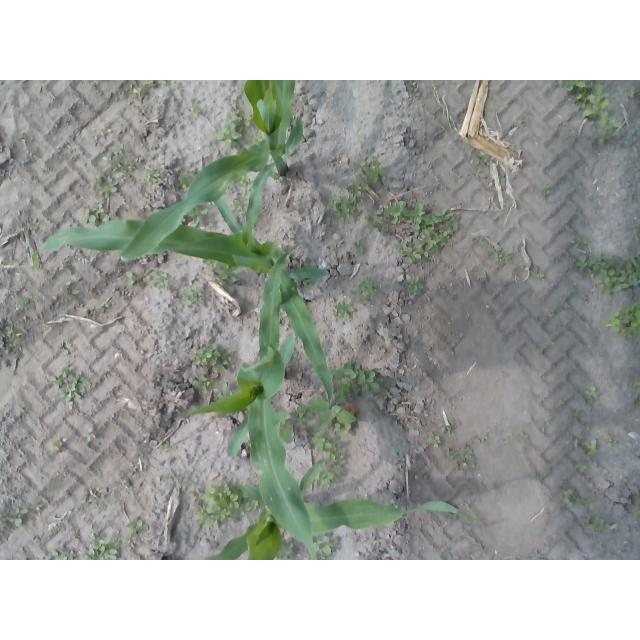Maize: (32, 196, 333, 409), (178, 241, 317, 560), (121, 80, 308, 261), (204, 458, 481, 560)
Weeds: (366, 201, 460, 264), (556, 80, 623, 145), (326, 159, 386, 225), (574, 251, 640, 297), (195, 480, 246, 529), (311, 390, 358, 430), (332, 359, 386, 393), (49, 364, 91, 407), (215, 108, 254, 150), (600, 301, 640, 339), (312, 432, 346, 473), (193, 343, 234, 373), (442, 445, 483, 474), (82, 530, 119, 560), (200, 259, 240, 286), (125, 268, 171, 288), (350, 278, 379, 307), (189, 375, 221, 398), (93, 169, 119, 197), (109, 147, 136, 173), (573, 437, 599, 464), (277, 409, 295, 444), (231, 180, 249, 215), (314, 537, 341, 560), (0, 507, 28, 529), (580, 515, 612, 534), (163, 475, 198, 492), (488, 245, 513, 268), (563, 488, 592, 507), (294, 400, 314, 427), (84, 202, 106, 226), (333, 298, 355, 321), (178, 286, 202, 307), (473, 151, 488, 179), (127, 518, 150, 536), (404, 275, 424, 295), (176, 167, 194, 189), (188, 207, 208, 226), (122, 535, 142, 553), (50, 548, 78, 560), (143, 165, 160, 184), (333, 423, 353, 438), (188, 104, 205, 121), (49, 438, 66, 455), (214, 382, 231, 399), (584, 385, 600, 403), (282, 537, 295, 559), (83, 487, 102, 502), (130, 85, 146, 102), (515, 432, 532, 448), (318, 470, 335, 486), (630, 493, 640, 520), (604, 431, 620, 447), (8, 323, 21, 342), (353, 239, 368, 255), (530, 269, 546, 284), (392, 439, 408, 454), (57, 340, 71, 356), (81, 428, 95, 443), (595, 542, 608, 558), (64, 286, 80, 299), (574, 235, 589, 248), (159, 442, 174, 455), (540, 183, 553, 197), (427, 436, 442, 448), (245, 501, 261, 512), (40, 268, 54, 280), (147, 81, 170, 88), (102, 128, 115, 140), (302, 278, 320, 286), (121, 476, 132, 489), (475, 436, 489, 446), (574, 409, 586, 420), (574, 463, 587, 473), (99, 302, 110, 313), (273, 173, 284, 184), (628, 87, 636, 102), (522, 119, 533, 129), (540, 426, 548, 439), (477, 271, 487, 281), (443, 427, 454, 436), (58, 261, 66, 272), (128, 414, 137, 423), (384, 389, 392, 399), (73, 529, 80, 540), (498, 174, 506, 183), (631, 380, 640, 388), (304, 263, 314, 270), (36, 505, 44, 512), (560, 401, 565, 408)
